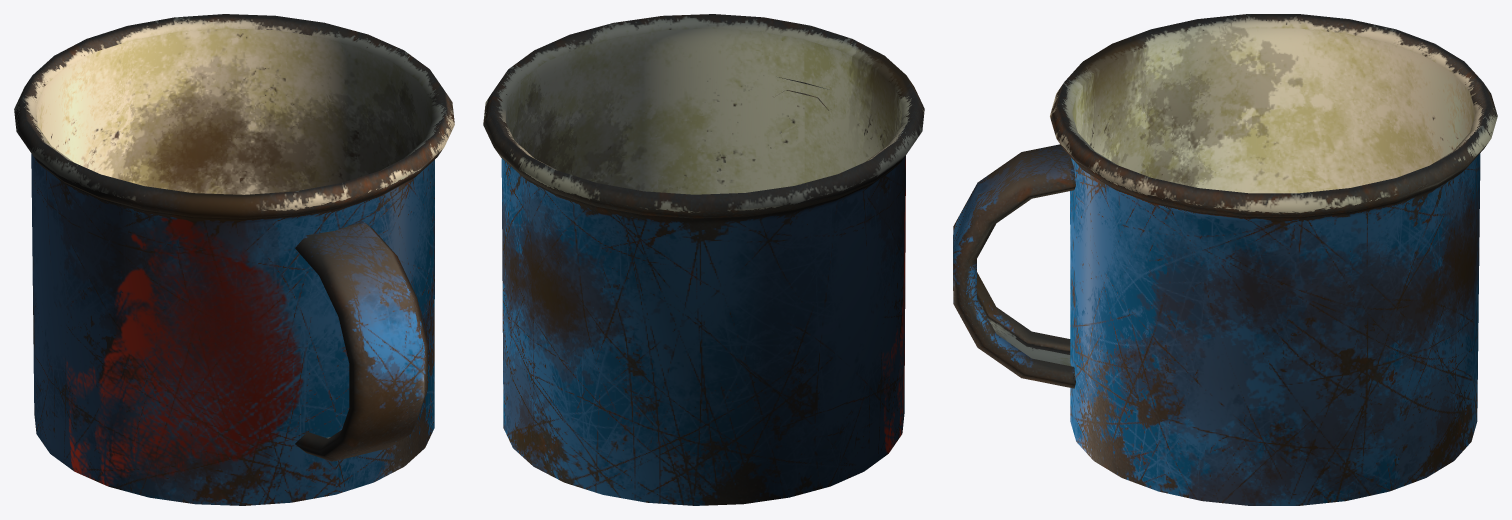
The picture shows the model from 3 angles, left to right: view 1: azimuth 30°, elevation 25°; view 2: azimuth 150°, elevation 25°; view 3: azimuth 270°, elevation 25°; orthographic projection.
Visible parts, largest first — view 1: cup_lowpoly_game; view 2: cup_lowpoly_game; view 3: cup_lowpoly_game.
Part boxes in pixels (x1,y1,x2,y2): cup_lowpoly_game: [14, 14, 454, 505]; cup_lowpoly_game: [483, 14, 924, 505]; cup_lowpoly_game: [953, 14, 1497, 505].
Bounding box in the file's own units: 23.92 × 19.37 × 29.59.
Materials: 1 (1 with a texture image).
